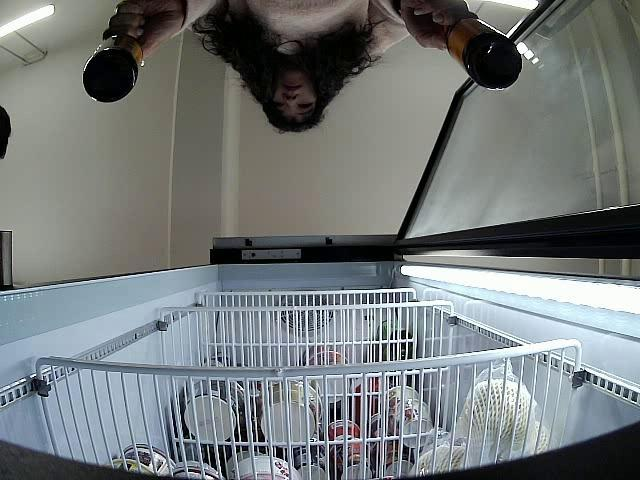17_vita500: (437, 15, 523, 90), (82, 33, 144, 104)
